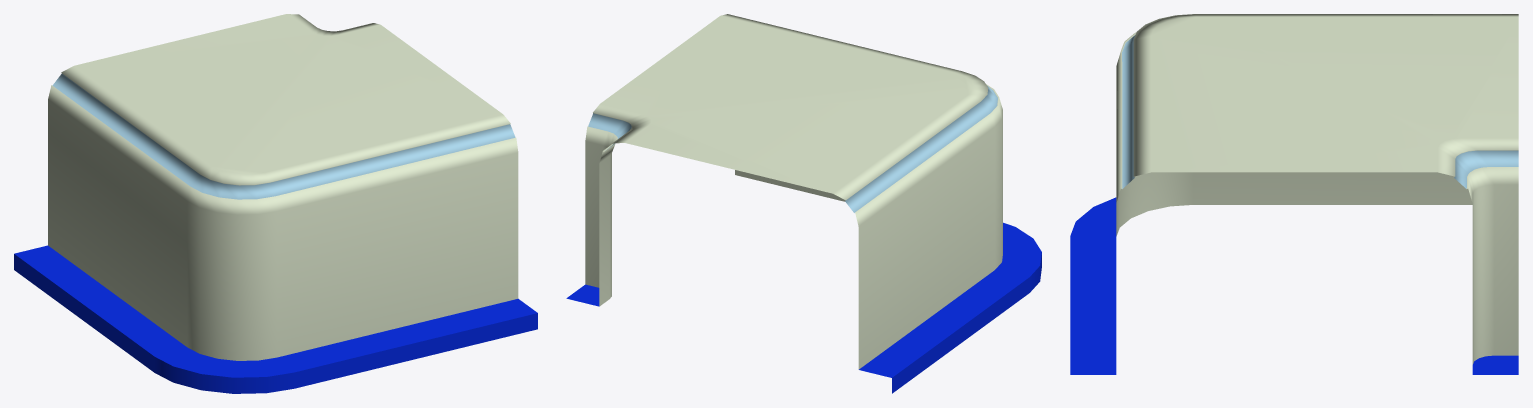
The model's file is Wall_Island_L.fbx.
3 renders of one model, left to right at view 1: azimuth 30°, elevation 25°; view 2: azimuth 150°, elevation 25°; view 3: azimuth 270°, elevation 25°, orthographic. The views are drawn at different scales.
Parts seen in each view (by area): view 1: Wall_Island_L; view 2: Wall_Island_L; view 3: Wall_Island_L.
Part boxes in pixels (x1,y1,x2,y2): Wall_Island_L: (14,14,537,393); Wall_Island_L: (566,14,1041,393); Wall_Island_L: (1070,14,1518,374).
Bounding box in the file's own units: 100 × 54.53 × 100.
